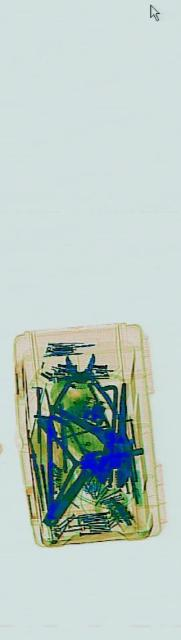Pliers: (47, 345, 116, 437)
